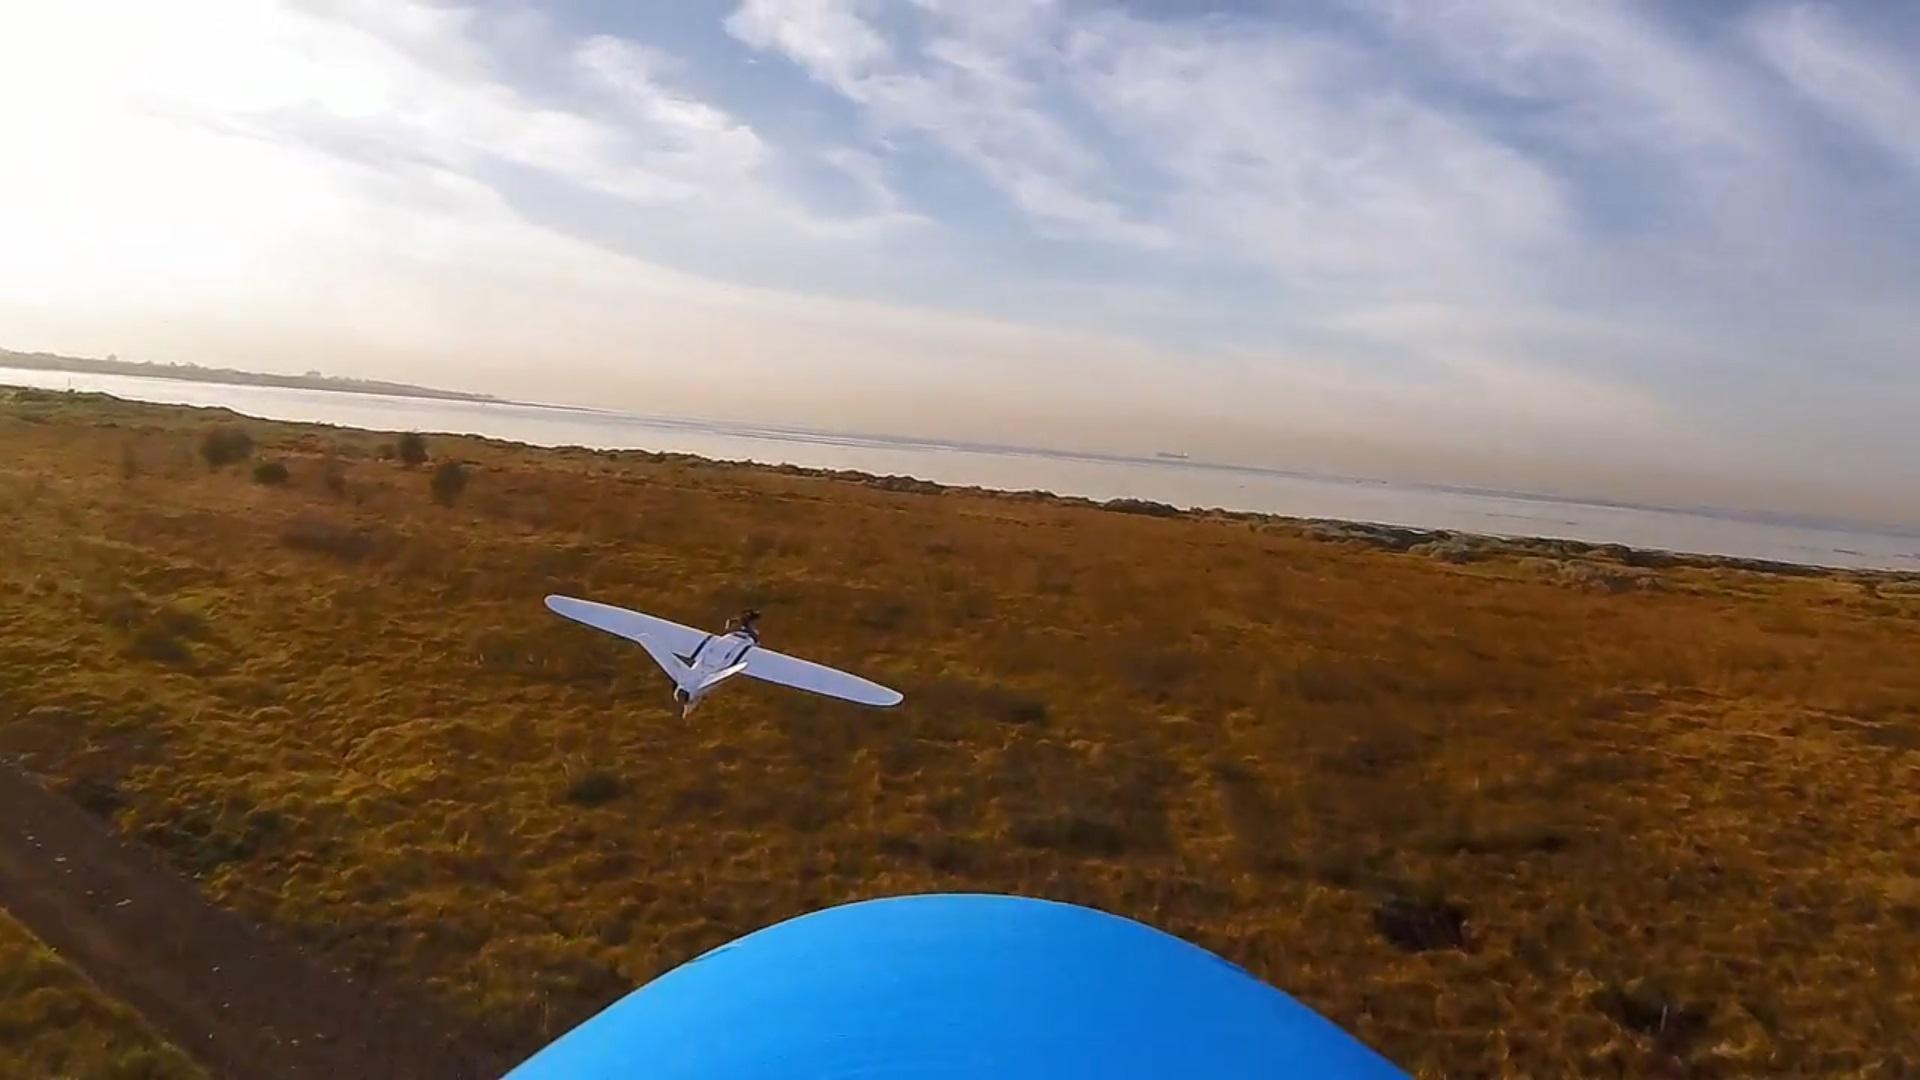Airplane: (539, 580, 910, 729)
